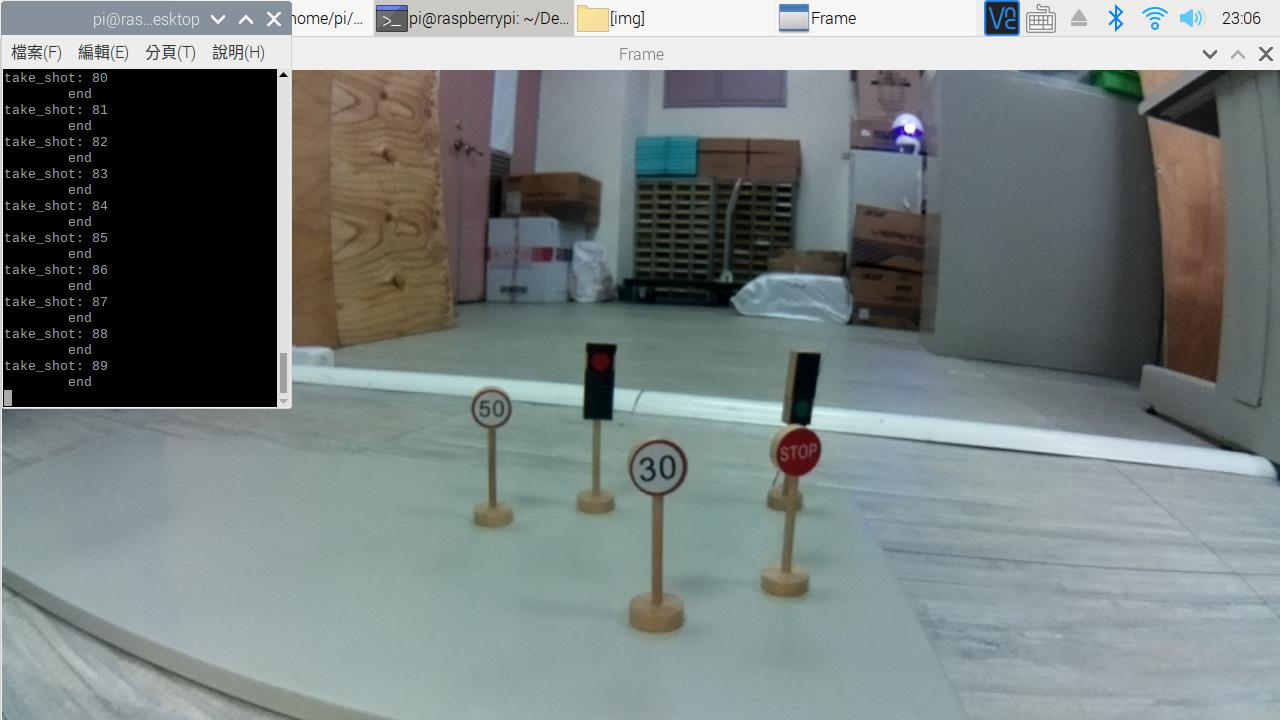Green: (776, 347, 824, 428)
Red: (572, 331, 628, 424)
Speed30: (624, 433, 695, 497)
Speed50: (471, 383, 514, 431)
Stop: (767, 428, 830, 489)
